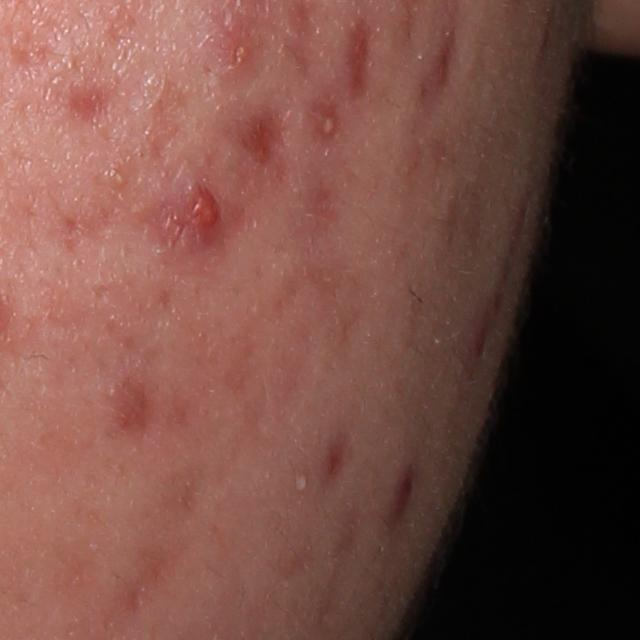atrophic_scar: (344, 20, 385, 106), (68, 83, 136, 133), (242, 110, 288, 177)
papule: (156, 183, 222, 254), (99, 376, 153, 437), (211, 20, 262, 75), (388, 463, 418, 521)
pustule: (309, 99, 342, 144)
